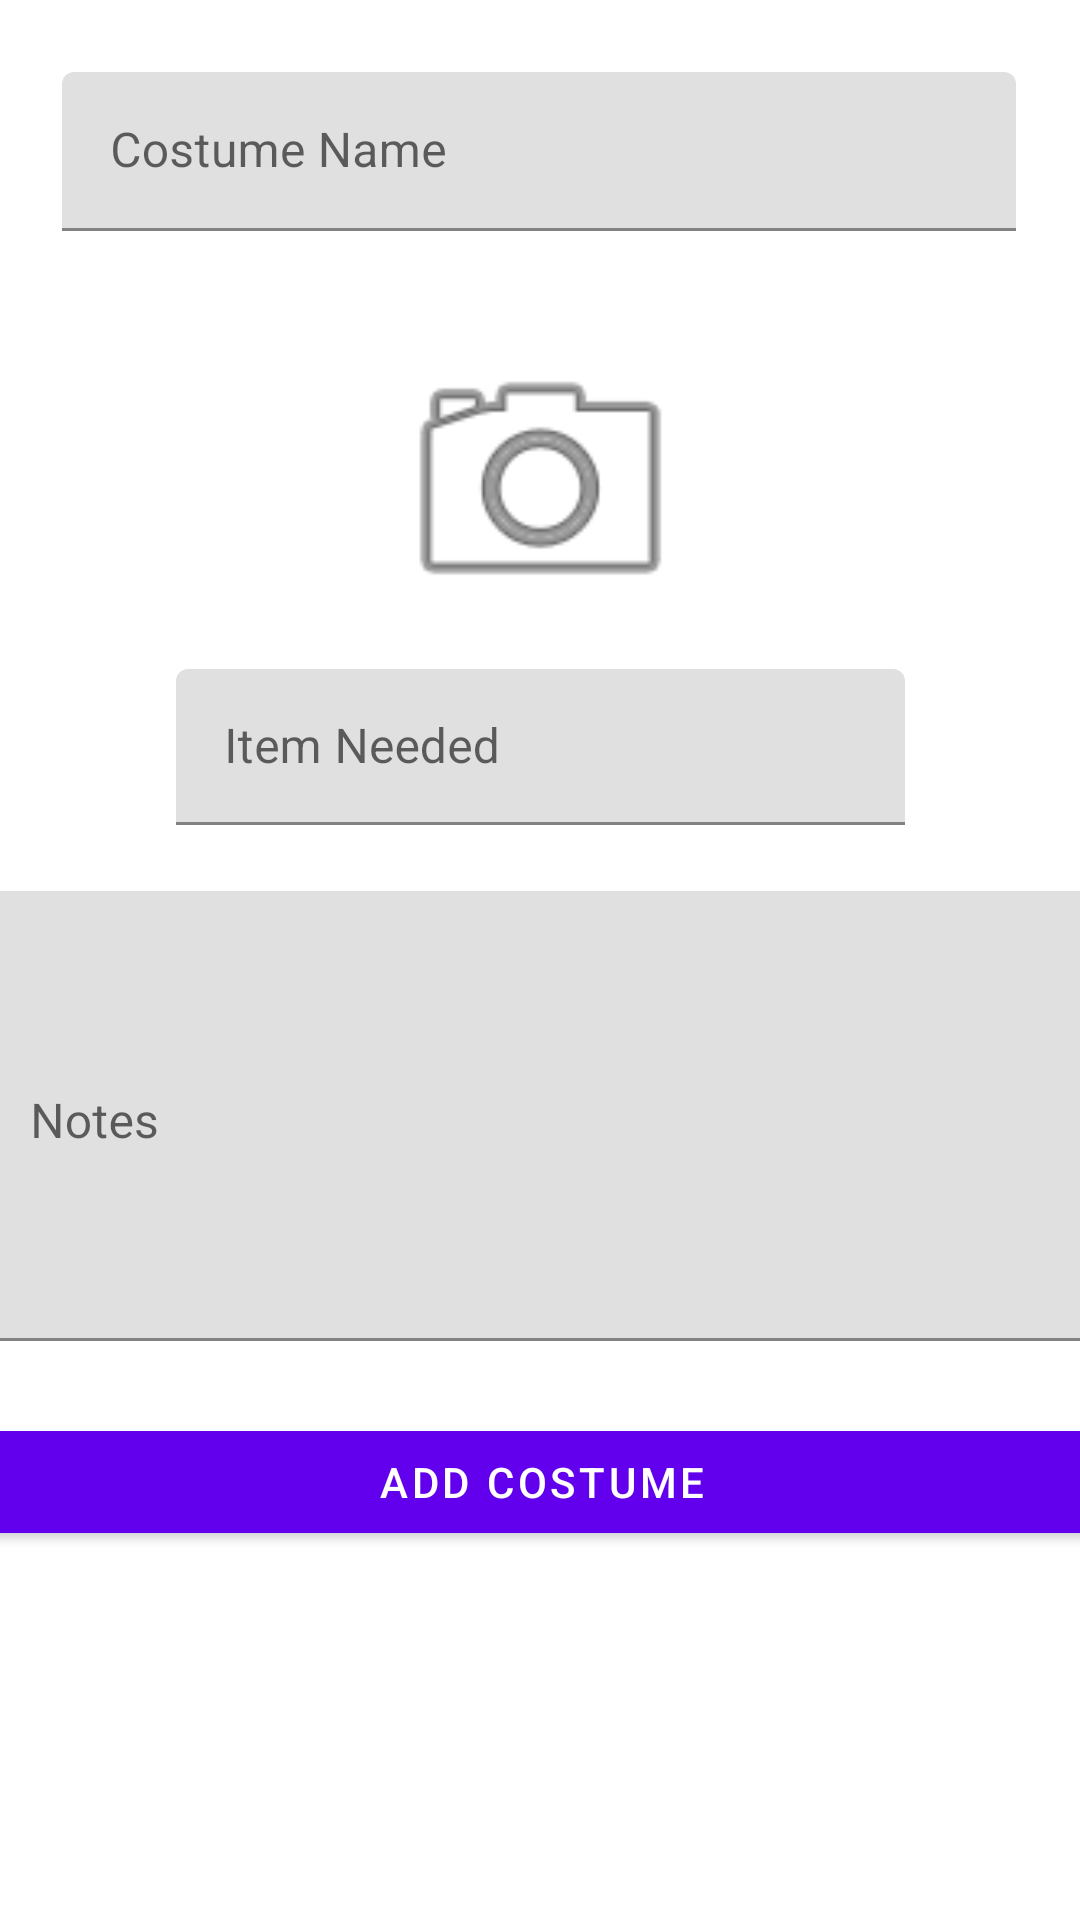

Screen size 1080×1920. Icon name, then its center in pixels as [x,y]:
camera: [540,478]
